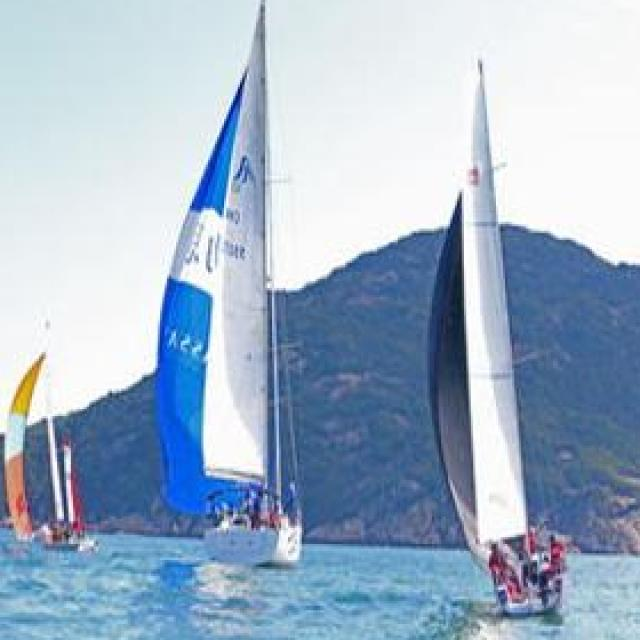sailboat: (426, 51, 584, 618), (158, 0, 313, 565), (0, 304, 73, 551), (60, 429, 101, 558)
